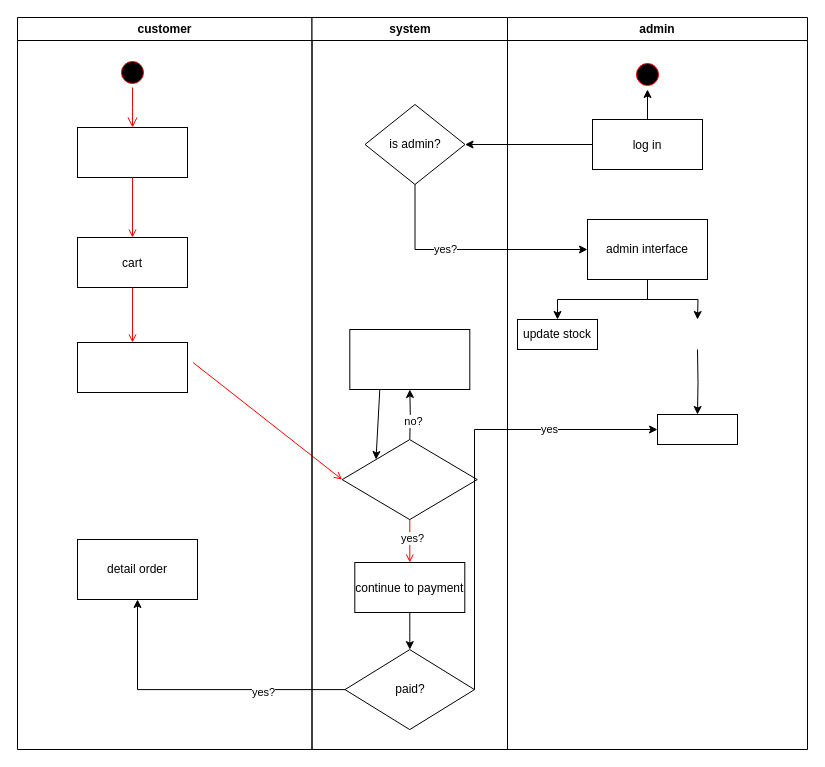
The diagram is 825 pixels wide and 767 high, and some of its shapes have lost their labels. Here are the shapes that lost their labels. From the top down, the centre of each, then its label:
At [132,152]: "products tab".
At [132,367]: "payment".
At [409,359]: "register account".
At [697,429]: "order list".
At [409,479]: "have account?".
